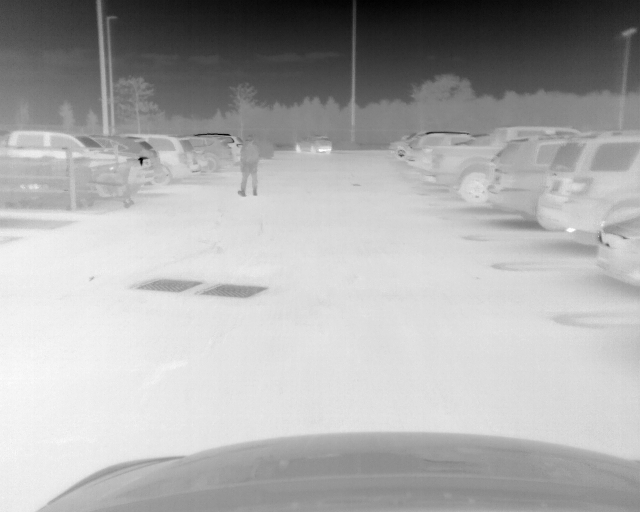car: (433, 122, 585, 205), (1, 129, 161, 204), (529, 134, 640, 235), (481, 135, 570, 229), (130, 133, 198, 189), (595, 213, 640, 285), (407, 130, 477, 174), (191, 134, 233, 177), (389, 130, 427, 161), (293, 134, 334, 156)
people: (235, 137, 258, 197)
